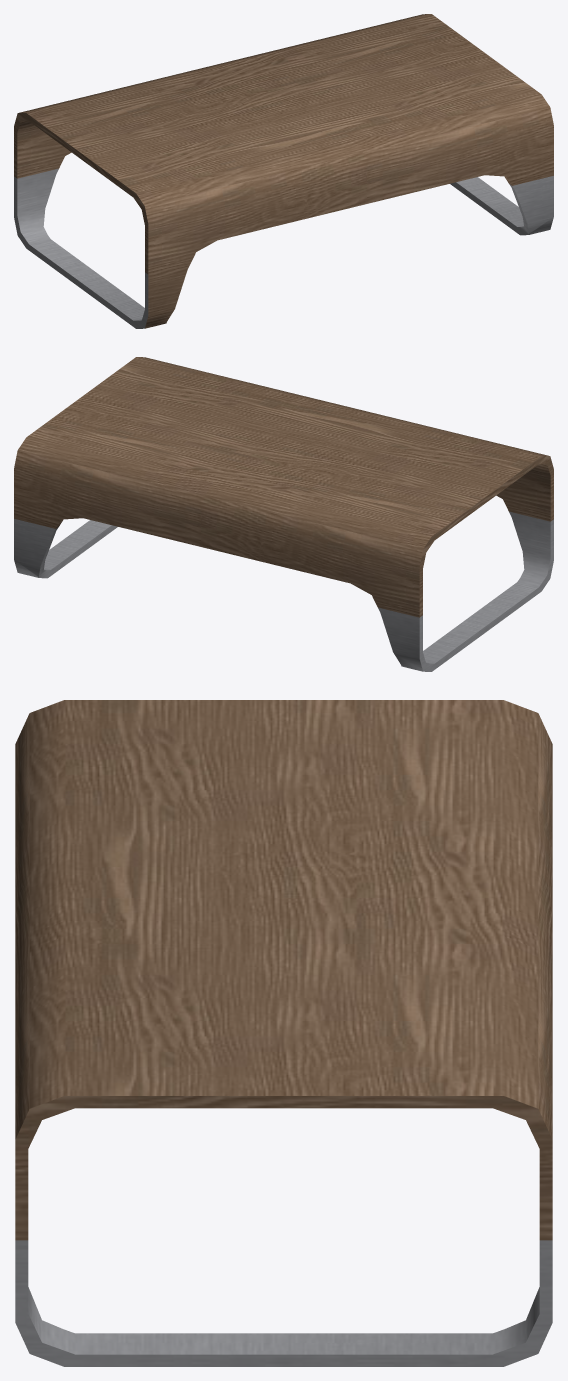
File: Table_28.glb
3 renders of one model, top to bottom at view 1: azimuth 30°, elevation 25°; view 2: azimuth 150°, elevation 25°; view 3: azimuth 270°, elevation 25°, orthographic. The views are drawn at different scales.
Parts seen in each view (by area): view 1: Table_28; view 2: Table_28; view 3: Table_28.
Part boxes in pixels (left/top/right/bottom): Table_28: left=14, top=14, right=553, bottom=328; Table_28: left=14, top=357, right=553, bottom=671; Table_28: left=15, top=700, right=552, bottom=1366.
Bounding box in the file's own units: 1.8 × 0.5748 × 1.03.
2 materials, 2 textured.
